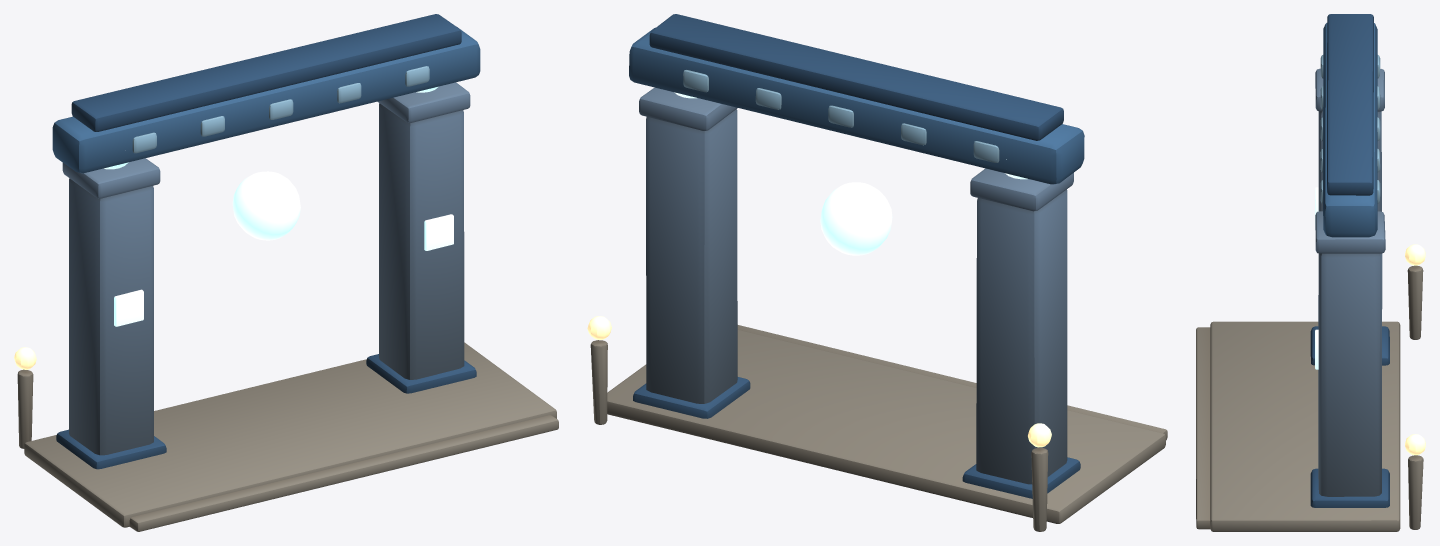
3 views of the same model, side by side, from view 1: azimuth 30°, elevation 25°; view 2: azimuth 150°, elevation 25°; view 3: azimuth 270°, elevation 25° (orthographic). The views are drawn at different scales.
Visible parts, largest first — view 1: gate_dbd6fc41; view 2: gate_dbd6fc41; view 3: gate_dbd6fc41.
Part boxes in pixels (bbox=[...]): gate_dbd6fc41: bbox=[14, 14, 558, 531]; gate_dbd6fc41: bbox=[587, 14, 1167, 531]; gate_dbd6fc41: bbox=[1196, 14, 1425, 531].
Size of the model in its own units: 5.23 by 4.12 by 2.54.
